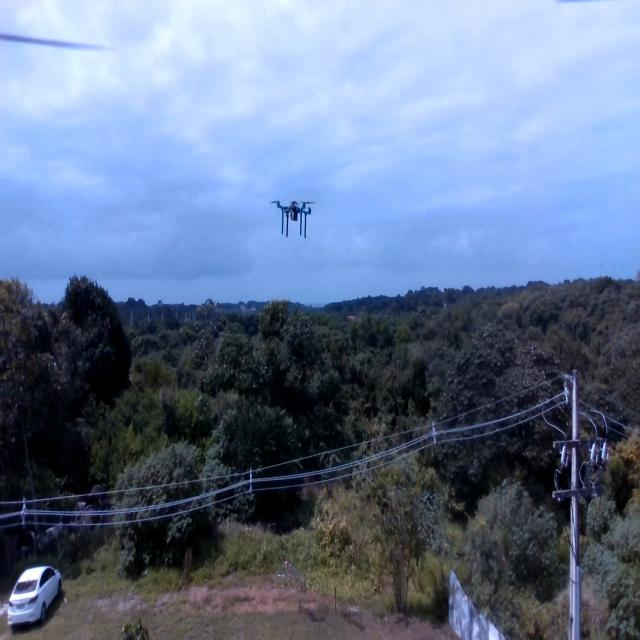-uav-: (266, 190, 322, 252)
